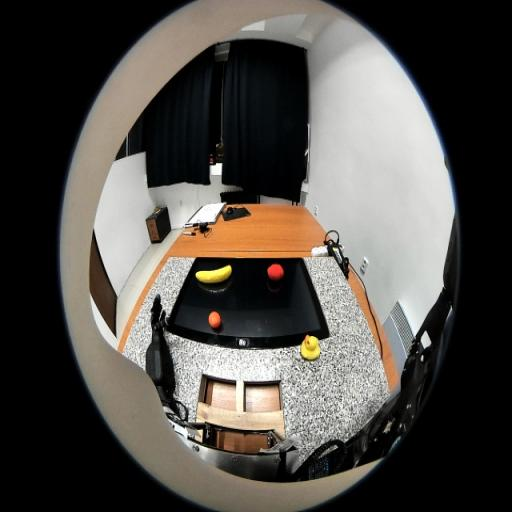Banana: (196, 264, 232, 284)
Duck: (301, 335, 320, 359)
LeftHand: (151, 313, 163, 334)
Orange: (208, 311, 221, 328)
Tomato: (267, 263, 284, 281)
